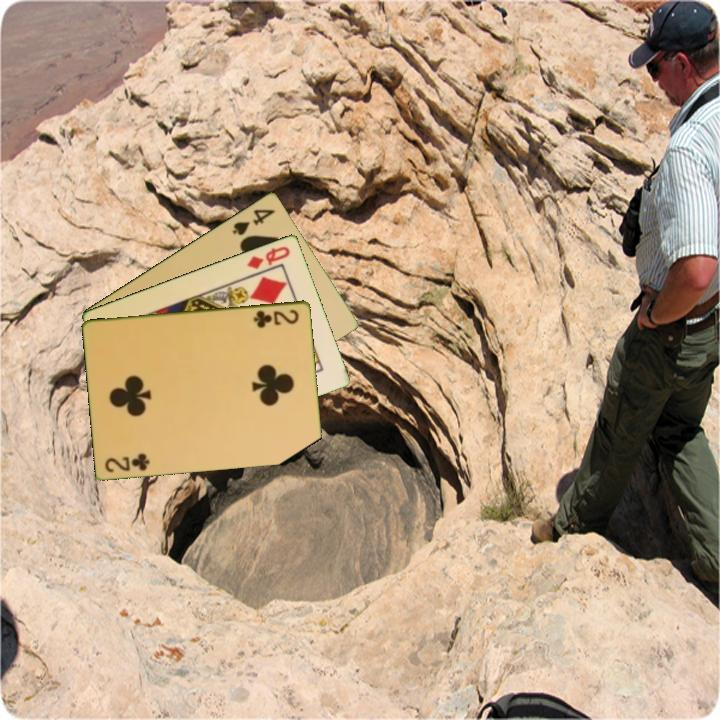2c: (250, 305, 302, 330), (102, 450, 152, 475)
4s: (229, 205, 278, 238)
Qd: (243, 242, 293, 271)
